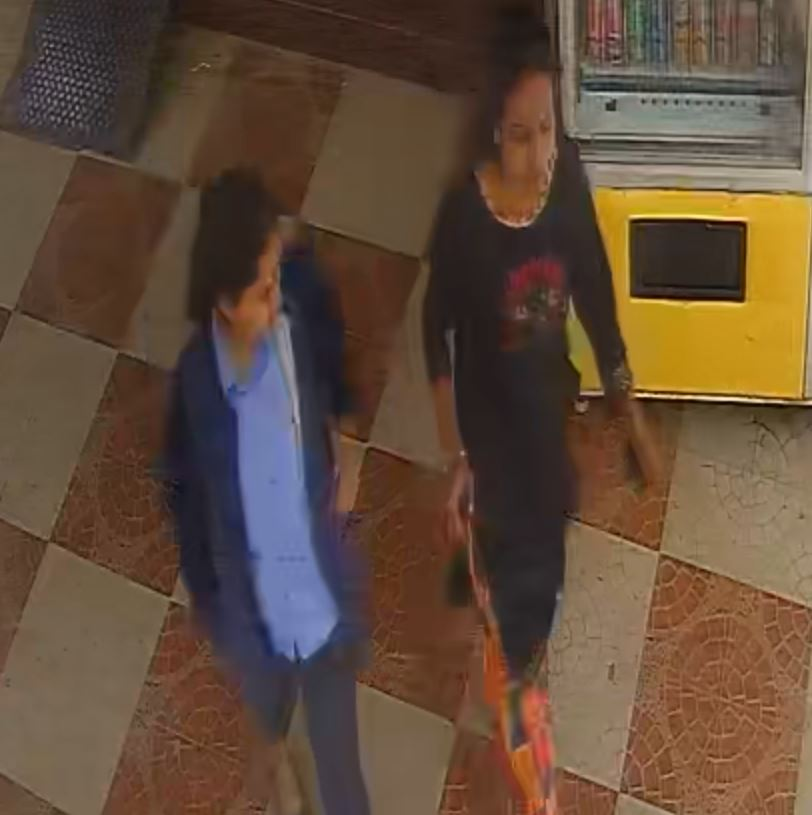intruder: (427, 16, 656, 783), (159, 161, 390, 802)
